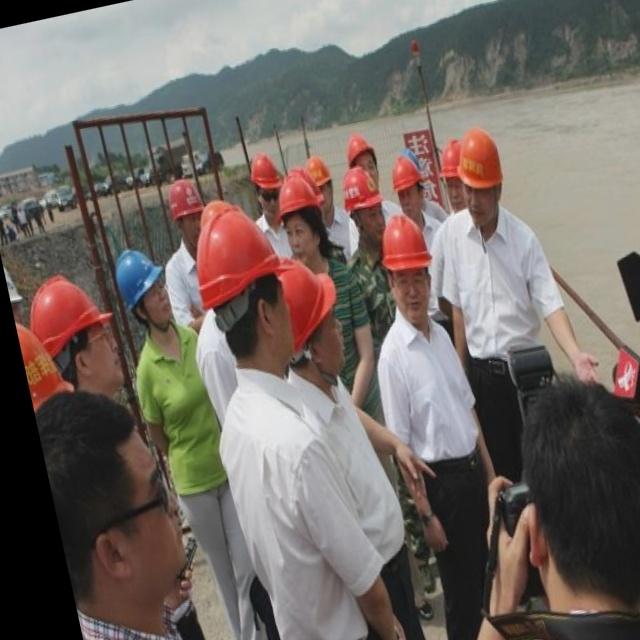Con_Casco: (375, 211, 439, 314), (448, 126, 513, 226), (114, 243, 174, 336)
Sin_Chaleco: (205, 362, 368, 640), (365, 306, 486, 478)
